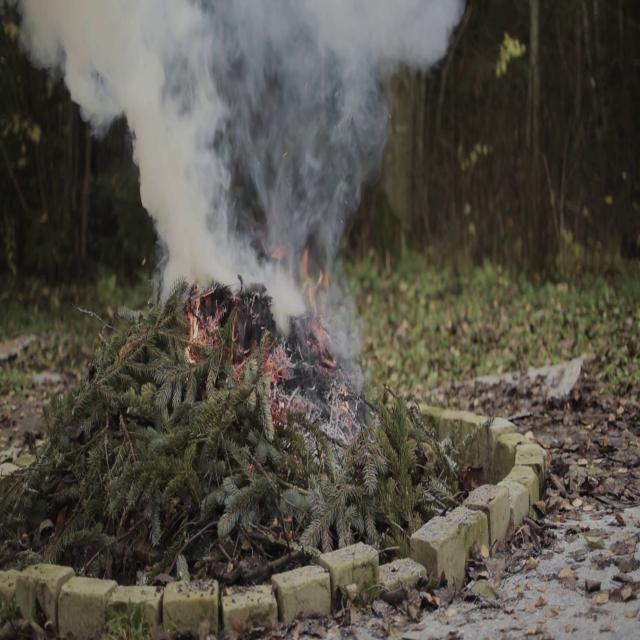Smoke: (48, 0, 426, 301)
